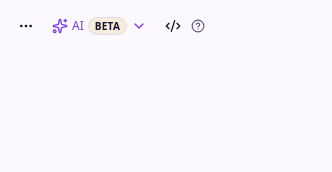
Test: NoteActions › switches between the live preview and the Markdown source
Click the button named "Show Markdown source" at [173, 26], box [159,12,187,40]
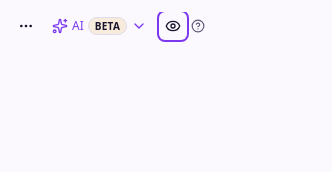
Expected: the button named "Show live preview" is pressed, [159,12,187,40]
